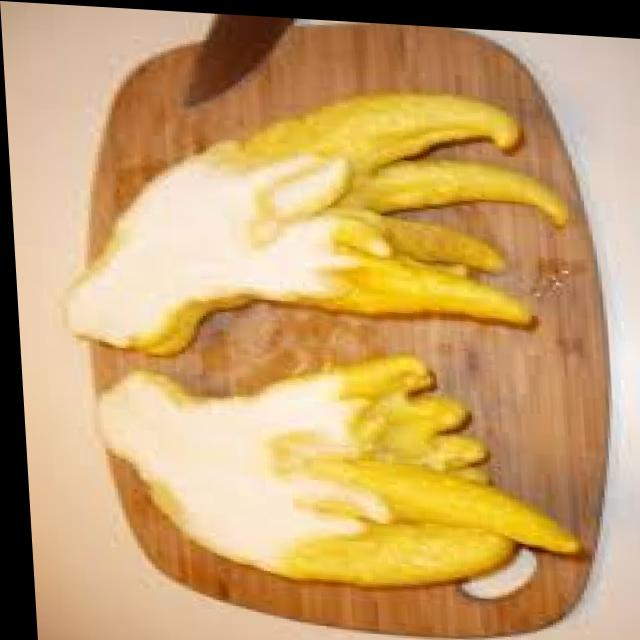PhatThu: (72, 323, 615, 609), (43, 64, 569, 342)
